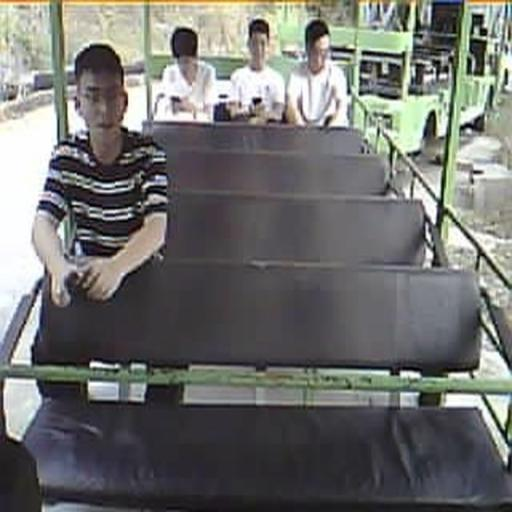persona: (30, 42, 169, 309), (284, 18, 350, 128), (153, 26, 218, 121), (228, 18, 286, 123)
